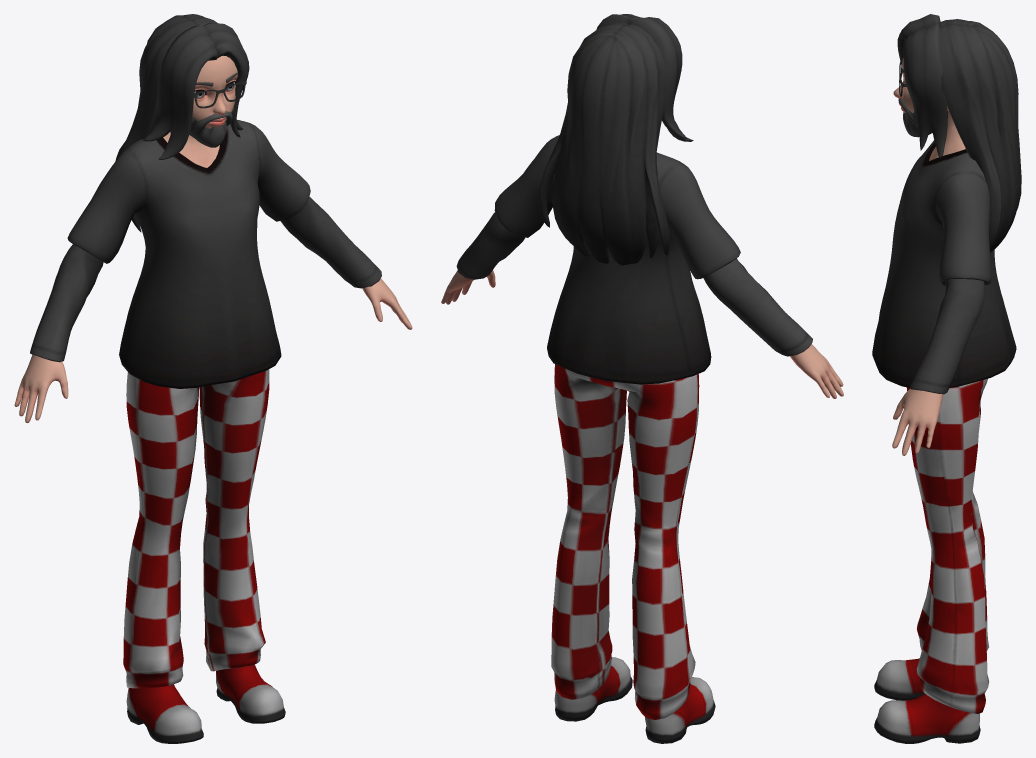
File: Hippi_Mesh.obj
3 renders of one model, left to right at view 1: azimuth 30°, elevation 25°; view 2: azimuth 150°, elevation 25°; view 3: azimuth 270°, elevation 25°, orthographic.
Parts seen in each view (by area): view 1: Hippi_Mesh_0; view 2: Hippi_Mesh_0; view 3: Hippi_Mesh_0.
Part boxes in pixels (x1,y1,x2,y2): Hippi_Mesh_0: (14, 14, 412, 743); Hippi_Mesh_0: (441, 14, 843, 743); Hippi_Mesh_0: (872, 14, 1021, 743).
Bounding box in the file's own units: 1.06 × 1.8 × 0.352.
1 material, 1 textured.
